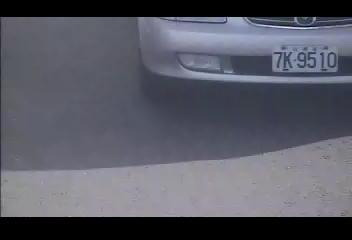plate: (270, 42, 339, 74)
